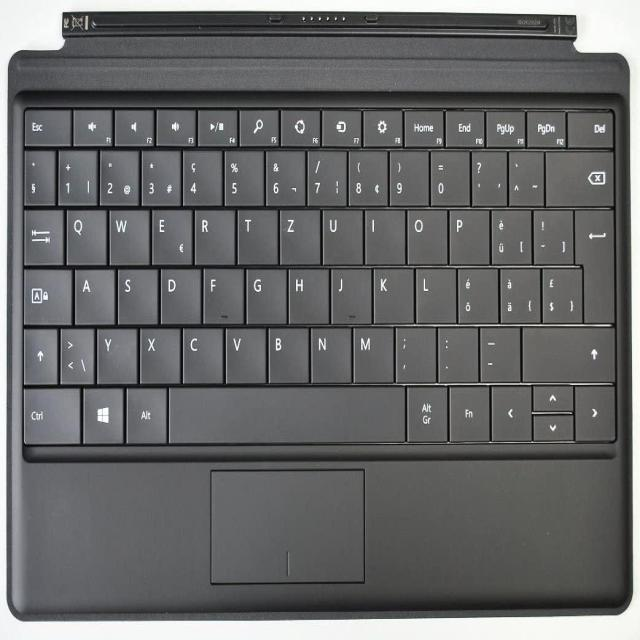0: (427, 144, 467, 204)
1: (55, 143, 95, 203)
2: (97, 144, 138, 204)
3: (138, 143, 179, 203)
4: (180, 143, 220, 202)
5: (221, 144, 262, 203)
6: (263, 144, 303, 204)
7: (305, 144, 345, 204)
8: (345, 144, 385, 203)
9: (386, 144, 427, 204)
a: (72, 263, 113, 322)
accent: (507, 144, 543, 203)
ae: (497, 261, 539, 322)
alt-left: (124, 382, 166, 442)
altgr-right: (403, 381, 446, 441)
b: (265, 322, 308, 381)
c: (179, 322, 222, 381)
comma: (393, 320, 435, 380)
d: (157, 263, 199, 322)
del: (544, 145, 614, 204)
e: (148, 203, 190, 262)
enter: (573, 204, 614, 323)
f: (200, 262, 242, 322)
g: (243, 263, 285, 322)
h: (285, 263, 327, 322)
i: (362, 203, 403, 261)
j: (329, 262, 370, 322)
k: (370, 262, 412, 321)
keyboard: (13, 82, 623, 460)
l: (414, 262, 455, 321)
less: (57, 322, 93, 382)
m: (350, 320, 392, 381)
minus: (477, 320, 519, 379)
n: (308, 322, 350, 381)
o: (403, 203, 445, 262)
oe: (457, 265, 499, 325)
p: (445, 203, 488, 262)
point: (435, 320, 477, 379)
q: (62, 203, 104, 262)
r: (191, 204, 233, 262)
s: (115, 264, 156, 322)
shift-left: (22, 323, 57, 383)
shift-lock: (20, 263, 70, 323)
shift-right: (520, 319, 614, 380)
space: (165, 381, 406, 442)
strg-left: (19, 382, 80, 443)
t: (235, 204, 276, 262)
tab: (22, 202, 62, 262)
u: (319, 203, 361, 263)
ue: (488, 203, 530, 263)
v: (222, 323, 264, 381)
w: (106, 203, 146, 262)
x: (137, 323, 179, 381)
y: (94, 323, 136, 382)
z: (276, 203, 319, 263)
